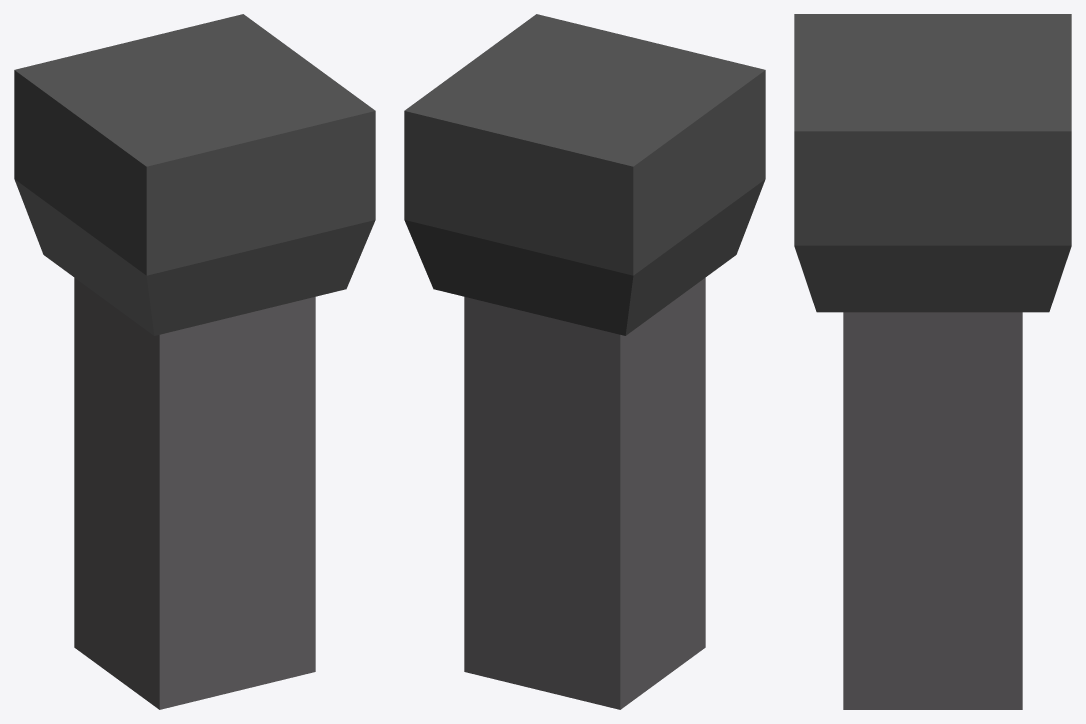
The model's file is Pillar_Full.fbx.
3 renders of one model, left to right at view 1: azimuth 30°, elevation 25°; view 2: azimuth 150°, elevation 25°; view 3: azimuth 270°, elevation 25°, orthographic. The views are drawn at different scales.
Visible parts, largest first — view 1: Pillar_Full; view 2: Pillar_Full; view 3: Pillar_Full.
Part boxes in pixels (left/top/right/bottom): Pillar_Full: left=14, top=14, right=375, bottom=709; Pillar_Full: left=404, top=14, right=765, bottom=709; Pillar_Full: left=794, top=14, right=1071, bottom=709.
Bounding box in the file's own units: 66 × 157 × 66.
